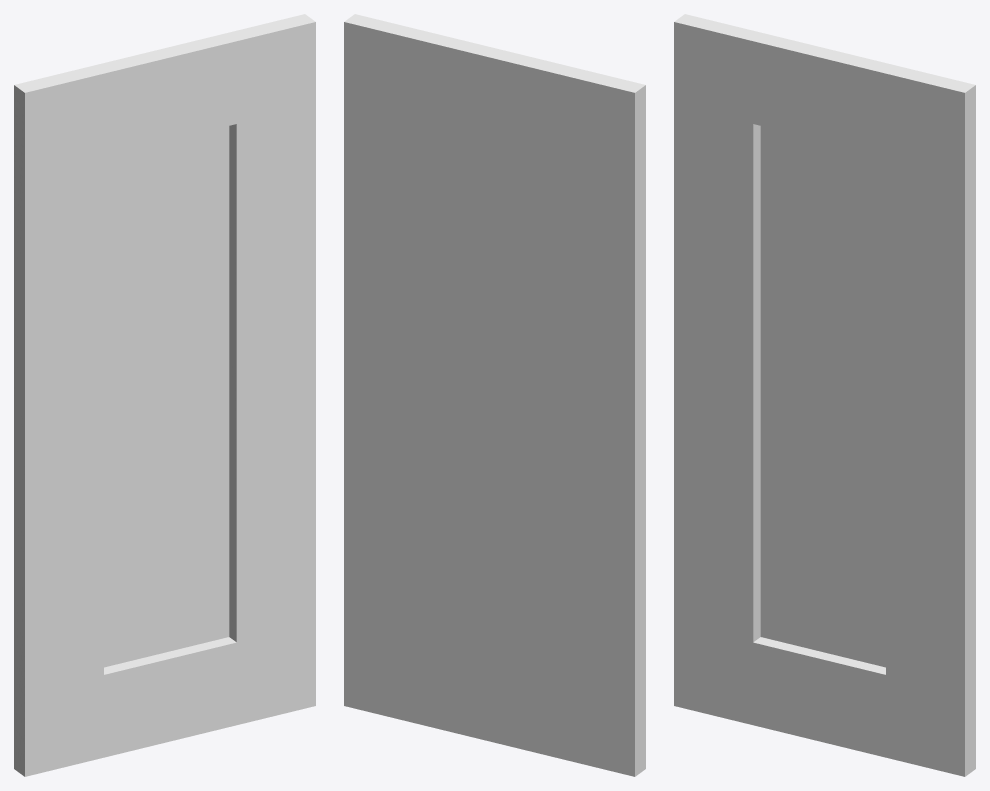
The model's file is front_highcabinet_oven-micro_bottom_keretes_30_l.glb.
3 renders of one model, left to right at view 1: azimuth 30°, elevation 25°; view 2: azimuth 150°, elevation 25°; view 3: azimuth 330°, elevation 25°, orthographic.
Visible parts, largest first — view 1: front_highcabinet_oven-micro_bottom_keretes_30_L; view 2: front_highcabinet_oven-micro_bottom_keretes_30_L; view 3: front_highcabinet_oven-micro_bottom_keretes_30_L.
Part boxes in pixels (x1=…): front_highcabinet_oven-micro_bottom_keretes_30_L: x1=14, y1=14, x2=315, y2=776; front_highcabinet_oven-micro_bottom_keretes_30_L: x1=344, y1=14, x2=645, y2=776; front_highcabinet_oven-micro_bottom_keretes_30_L: x1=674, y1=14, x2=975, y2=776.
Bounding box in the file's own units: 0.2944 × 0.6612 × 0.019.
1 material, 1 textured.
